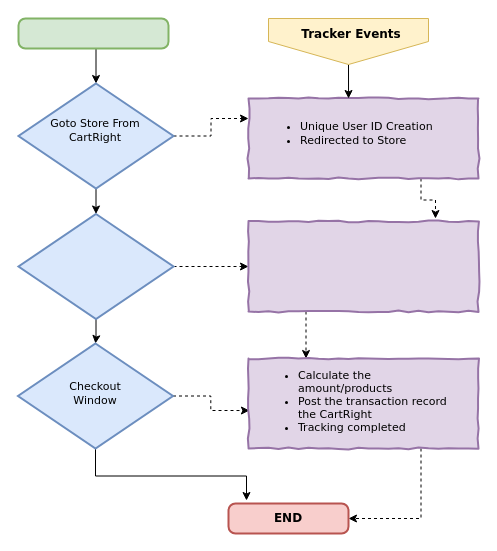
Some shapes in this 497 by 551 pixel diagram are drawn without their labels. The shapes that lost their labels are listed below. From the top down, each one's centre as x and y in pixels, then its label:
At (x=93, y=33): "Start".
At (x=95, y=266): "Landed on Store Product Page".
At (x=363, y=266): "Cookie creation User session initialized Tracking initialized".
